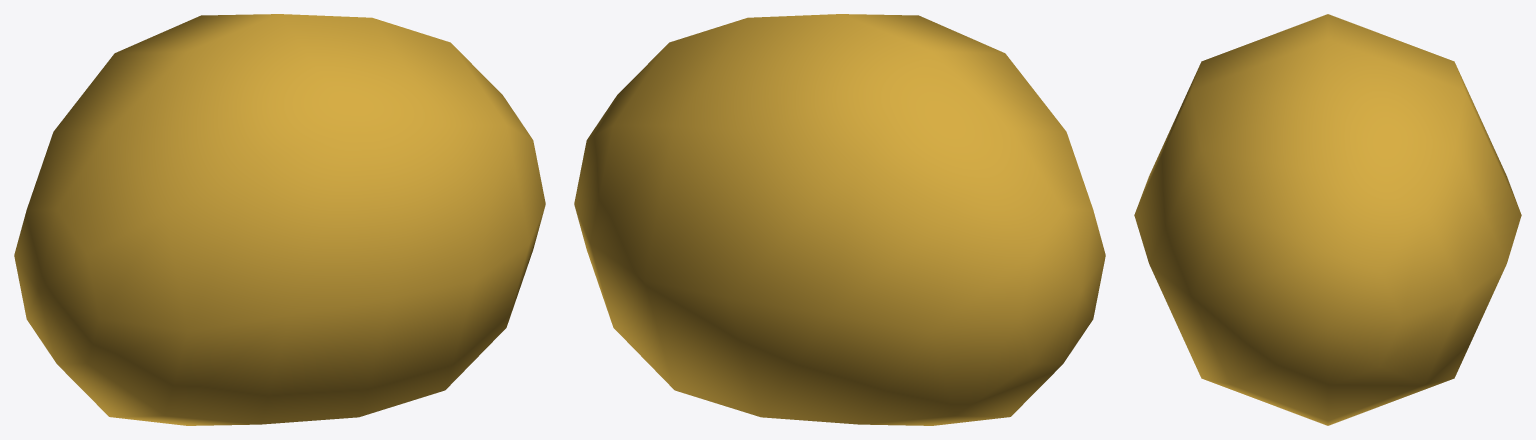
The model's file is SM_Potato_001_001.fbx.
The picture shows the model from 3 angles, left to right: view 1: azimuth 30°, elevation 25°; view 2: azimuth 150°, elevation 25°; view 3: azimuth 270°, elevation 25°; orthographic projection. The views are drawn at different scales.
Visible parts, largest first — view 1: Potato2; view 2: Potato2; view 3: Potato2.
Boxes of the visible parts, x1=… form: Potato2: x1=14, y1=14, x2=545, y2=425; Potato2: x1=574, y1=14, x2=1105, y2=425; Potato2: x1=1134, y1=14, x2=1521, y2=425.
Bounding box in the file's own units: 0.0611 × 0.049 × 0.049.
